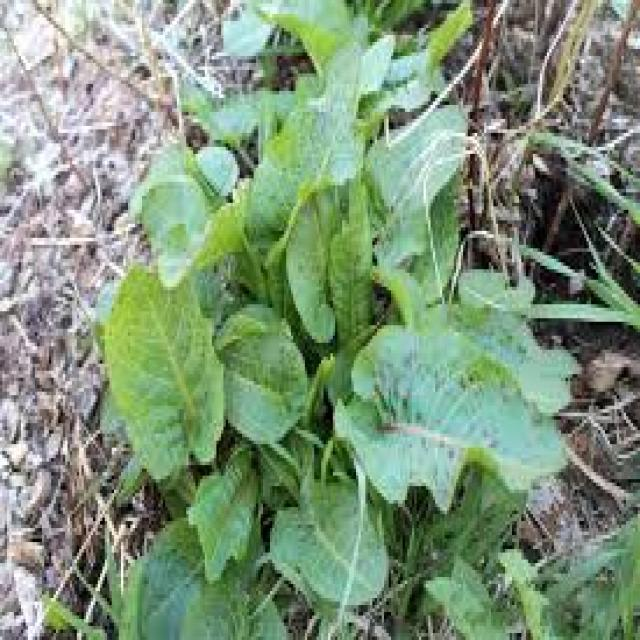organic waste: (88, 0, 596, 640)
